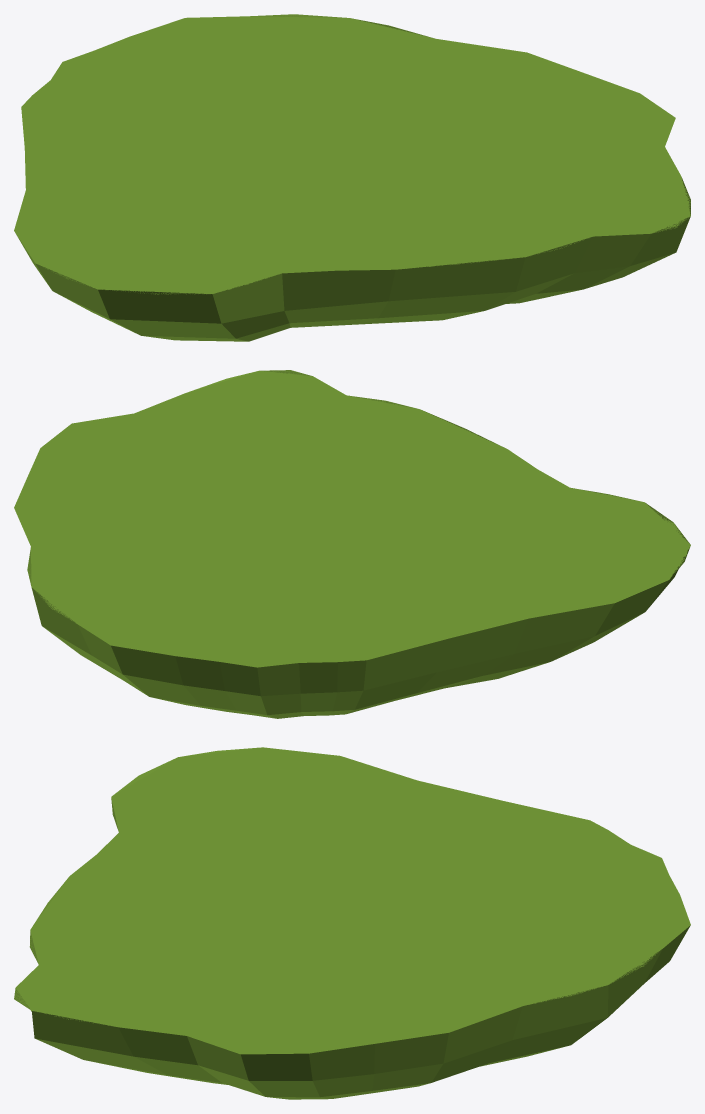
Rendered from mod_terrainFlat.fbx.
The picture shows the model from 3 angles, top to bottom: view 1: azimuth 30°, elevation 25°; view 2: azimuth 150°, elevation 25°; view 3: azimuth 270°, elevation 25°; orthographic projection. The views are drawn at different scales.
Parts seen in each view (by area): view 1: mod_terrain01, mod_terrain01.001, mod_terrain01.002; view 2: mod_terrain01, mod_terrain01.001, mod_terrain01.002; view 3: mod_terrain01, mod_terrain01.001, mod_terrain01.002.
Boxes of the visible parts, <box> form: mod_terrain01: <box>29,19,676,287</box>; mod_terrain01.001: <box>15,14,690,341</box>; mod_terrain01.002: <box>14,14,690,294</box>; mod_terrain01: <box>32,376,671,658</box>; mod_terrain01.001: <box>27,370,690,718</box>; mod_terrain01.002: <box>14,370,690,667</box>; mod_terrain01: <box>33,754,673,1044</box>; mod_terrain01.001: <box>14,747,690,1099</box>; mod_terrain01.002: <box>14,747,690,1054</box>.
Size of the model in its own units: 2252 by 351 by 2098.
